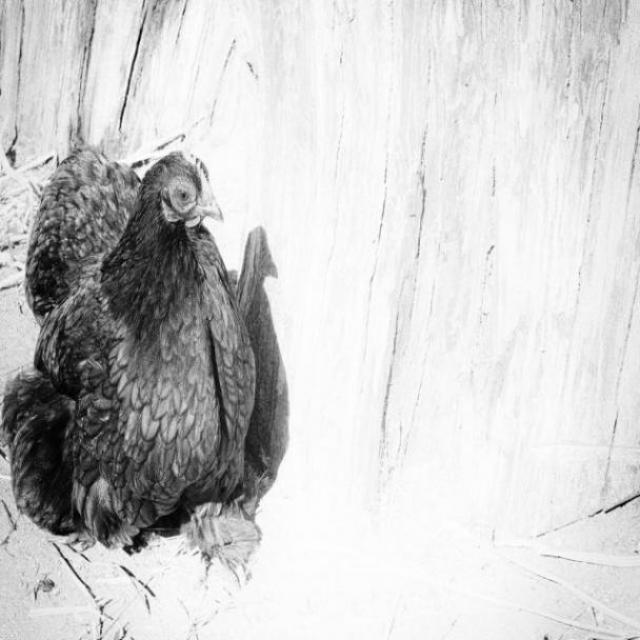Chicken: (0, 125, 309, 563)
